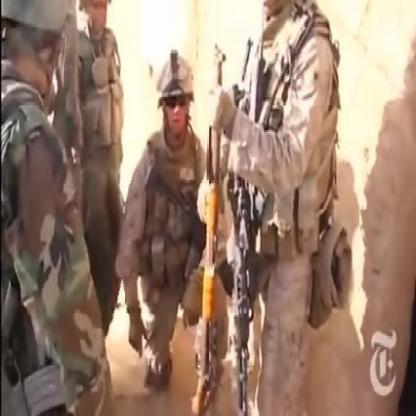Gun: (186, 42, 229, 413)
